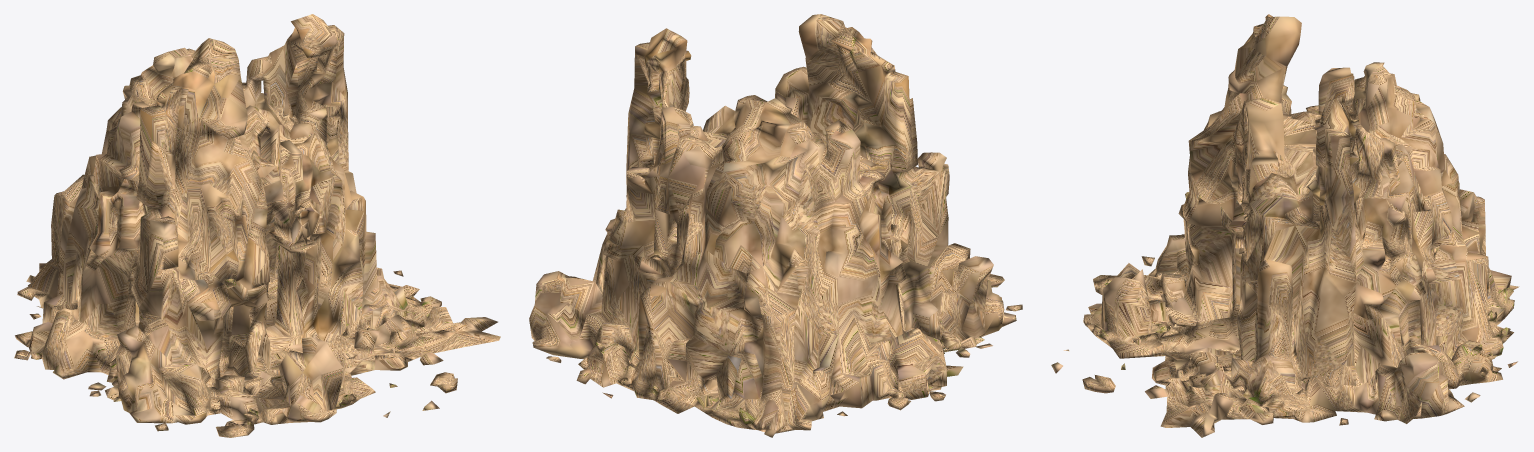
File: Stone_Fortress.glb
3 views of the same model, side by side, from view 1: azimuth 30°, elevation 25°; view 2: azimuth 150°, elevation 25°; view 3: azimuth 270°, elevation 25° (orthographic). The views are drawn at different scales.
Visible parts, largest first — view 1: Stone_Fortress; view 2: Stone_Fortress; view 3: Stone_Fortress.
Part boxes in pixels (x1=…): Stone_Fortress: x1=14, y1=14, x2=500, y2=437; Stone_Fortress: x1=529, y1=14, x2=1022, y2=437; Stone_Fortress: x1=1051, y1=14, x2=1519, y2=437.
Size of the model in its own units: 1.85 by 1.37 by 1.89.
Materials: 1 (1 with a texture image).
